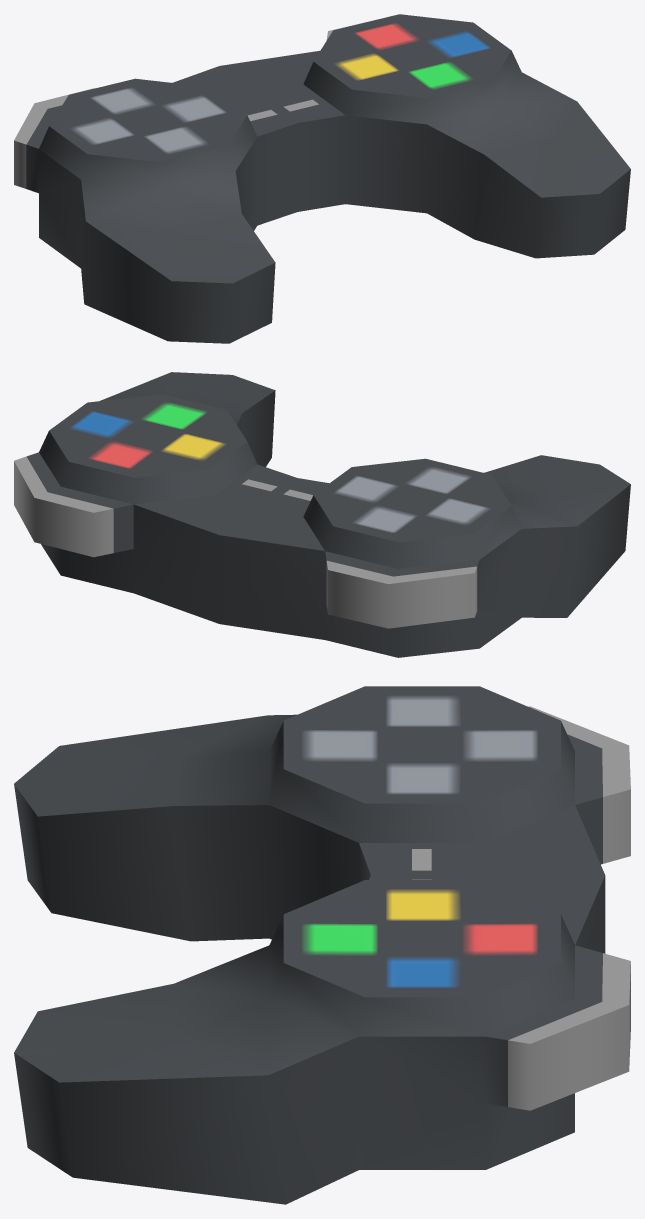
File: SM_Prop_Game_Controller_01.obj
The picture shows the model from 3 angles, top to bottom: view 1: azimuth 30°, elevation 25°; view 2: azimuth 150°, elevation 25°; view 3: azimuth 270°, elevation 25°; orthographic projection. The views are drawn at different scales.
Parts seen in each view (by area): view 1: SM_Prop_Game_Controller_01_Mat_SwatchOverlay_PolygonTown_01_Inst; view 2: SM_Prop_Game_Controller_01_Mat_SwatchOverlay_PolygonTown_01_Inst; view 3: SM_Prop_Game_Controller_01_Mat_SwatchOverlay_PolygonTown_01_Inst.
Part boxes in pixels (x1=…): SM_Prop_Game_Controller_01_Mat_SwatchOverlay_PolygonTown_01_Inst: x1=14, y1=14, x2=630, y2=343; SM_Prop_Game_Controller_01_Mat_SwatchOverlay_PolygonTown_01_Inst: x1=14, y1=372, x2=630, y2=657; SM_Prop_Game_Controller_01_Mat_SwatchOverlay_PolygonTown_01_Inst: x1=14, y1=686, x2=630, y2=1204.
Size of the model in its own units: 0.2833 by 0.0702 by 0.2052.
1 material, 1 textured.
